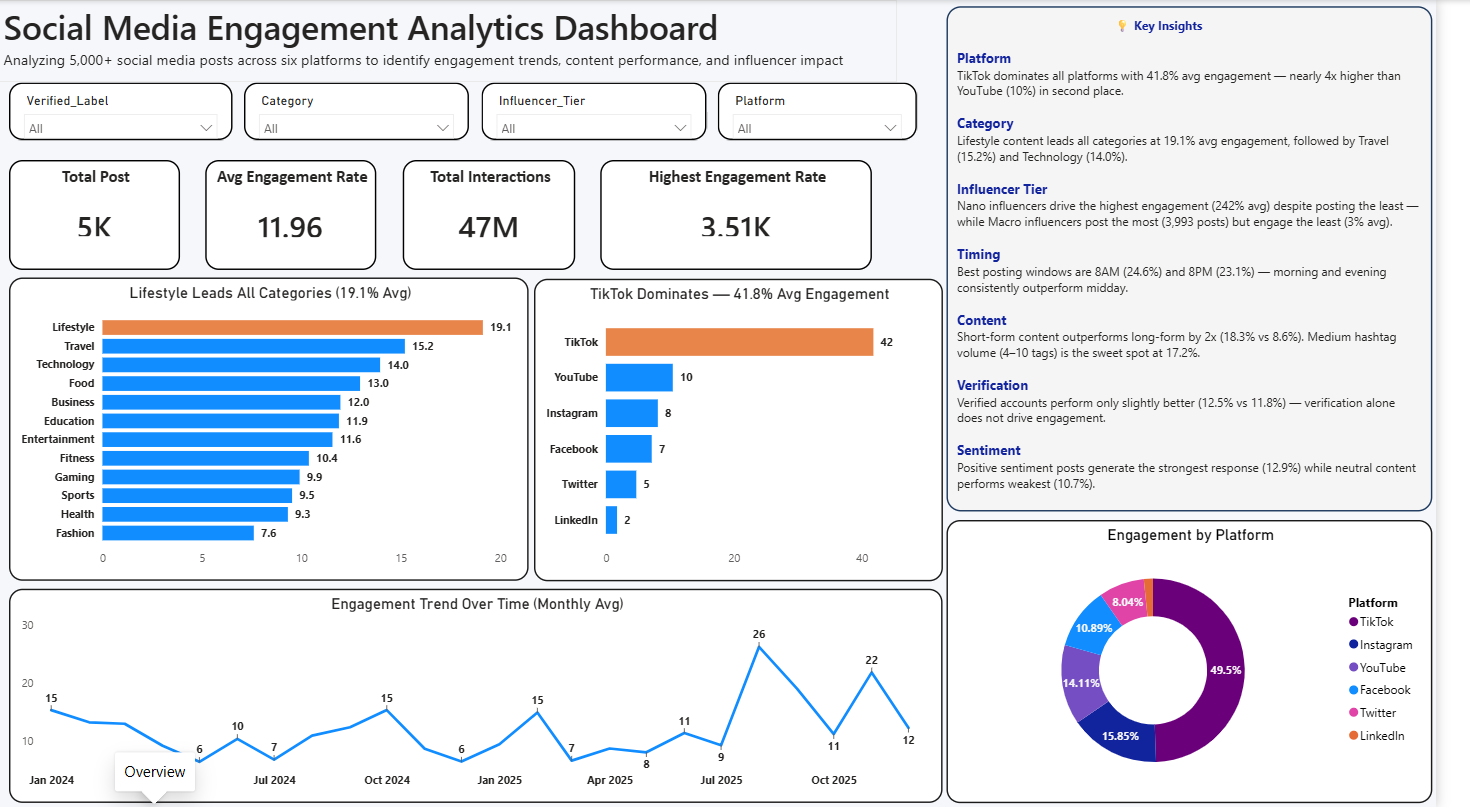

Layout of this report page (visuals, bound fields, positions):
{"tool":"powerbi","page":{"name":"Overview ","canvas":[1600,900],"ordinal":0},"visuals":[{"type":"cardVisual","title":"Total Post","fields":{"Data":["CountNonNull(posts.Post_ID)"]},"box":[11.6,178.8,190.4,122.1],"z":0},{"type":"cardVisual","title":"Avg Engagement Rate","fields":{"Data":["posts.Avg Engagement Rate"]},"box":[230.1,178.1,190.6,122.4],"z":1000},{"type":"cardVisual","title":"Total Interactions","fields":{"Data":["Sum(posts.Total_Interactions)"]},"box":[448.8,178.1,192,122.4],"z":2000},{"type":"clusteredBarChart","title":"Lifestyle Leads All Categories (19.1% Avg)","fields":{"Category":["posts.Category"],"Y":["posts.Avg Engagement Rate"]},"box":[0,310.3,590,336.7],"z":3000},{"type":"barChart","title":"TikTok Dominates — 41.8% Avg Engagement","fields":{"Category":["posts.Platform"],"Y":["posts.Avg Engagement Rate"]},"box":[595.6,310.3,455,336.7],"z":4000},{"type":"lineChart","title":"Engagement Trend Over Time (Monthly Avg)","fields":{"Category":["posts.Post_Month"],"Y":["posts.Avg Engagement Rate"]},"box":[0,655.4,1050.6,237.9],"z":5000},{"type":"textbox","box":[0,0,1000.5,91.8],"z":6000},{"type":"slicer","fields":{"Values":["posts.Platform"]},"box":[800.1,91.8,221.2,64],"z":7000},{"type":"slicer","fields":{"Values":["posts.Category"]},"box":[265.8,91.8,250.5,64],"z":8000},{"type":"slicer","fields":{"Values":["posts.Influencer_Tier"]},"box":[532.9,91.8,250.5,64],"z":9000},{"type":"slicer","fields":{"Values":["posts.Verified_Label"]},"box":[0,91.8,249.1,64],"z":10000},{"type":"textbox","box":[1055.2,7.3,540.7,562.5],"z":11000},{"type":"cardVisual","title":"Highest Engagement Rate","fields":{"Data":["Sum(posts.Engagement_Rate)"]},"box":[669,178.4,301.9,123.5],"z":12000},{"type":"donutChart","title":"Engagement by Platform","fields":{"Category":["posts.Platform"],"Y":["Sum(posts.Total_Interactions)"]},"box":[1055.2,578.5,540.7,315.4],"z":13000}]}

Visuals, with their boxes in screenshot pixels (x1, y1, x2, y2), scaled from the page's 1600x900 canvas onto the 1470x807 screenshot:
"Total Post" cardVisual: 11,160,186,270
"Avg Engagement Rate" cardVisual: 211,160,387,269
"Total Interactions" cardVisual: 412,160,589,269
"Lifestyle Leads All Categories (19.1% Avg)" clusteredBarChart: 0,278,542,580
"TikTok Dominates — 41.8% Avg Engagement" barChart: 547,278,965,580
"Engagement Trend Over Time (Monthly Avg)" lineChart: 0,588,965,801
textbox: 0,0,919,82
slicer - posts.Platform: 735,82,938,140
slicer - posts.Category: 244,82,474,140
slicer - posts.Influencer_Tier: 490,82,720,140
slicer - posts.Verified_Label: 0,82,229,140
textbox: 969,7,1466,511
"Highest Engagement Rate" cardVisual: 615,160,892,271
"Engagement by Platform" donutChart: 969,519,1466,802
